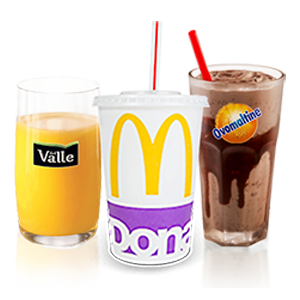mcdonalds: (105, 109, 196, 203)
